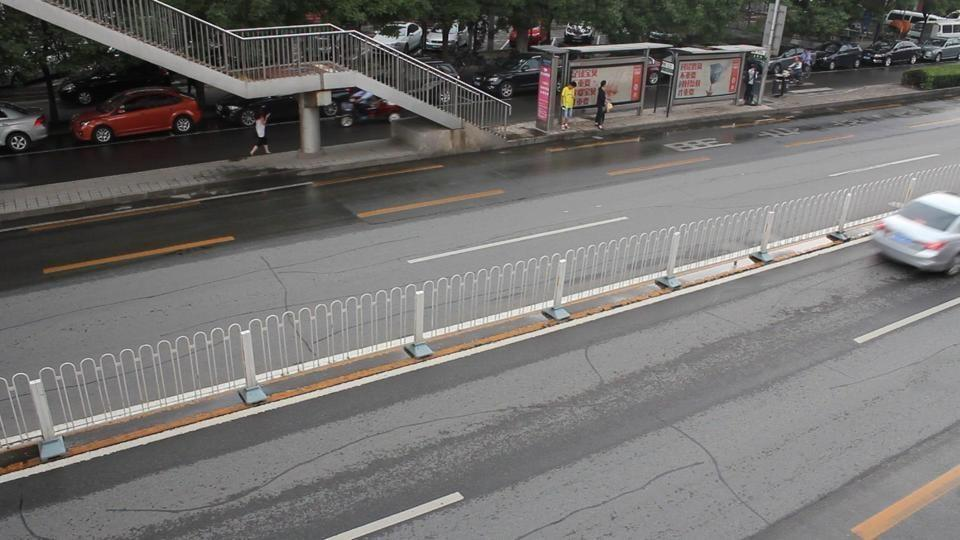car: (69, 87, 205, 145), (871, 191, 960, 276), (56, 63, 158, 106), (477, 55, 550, 97), (334, 87, 404, 125), (1, 102, 49, 153), (373, 21, 423, 53), (864, 41, 925, 67), (811, 44, 865, 70), (919, 39, 960, 63)
